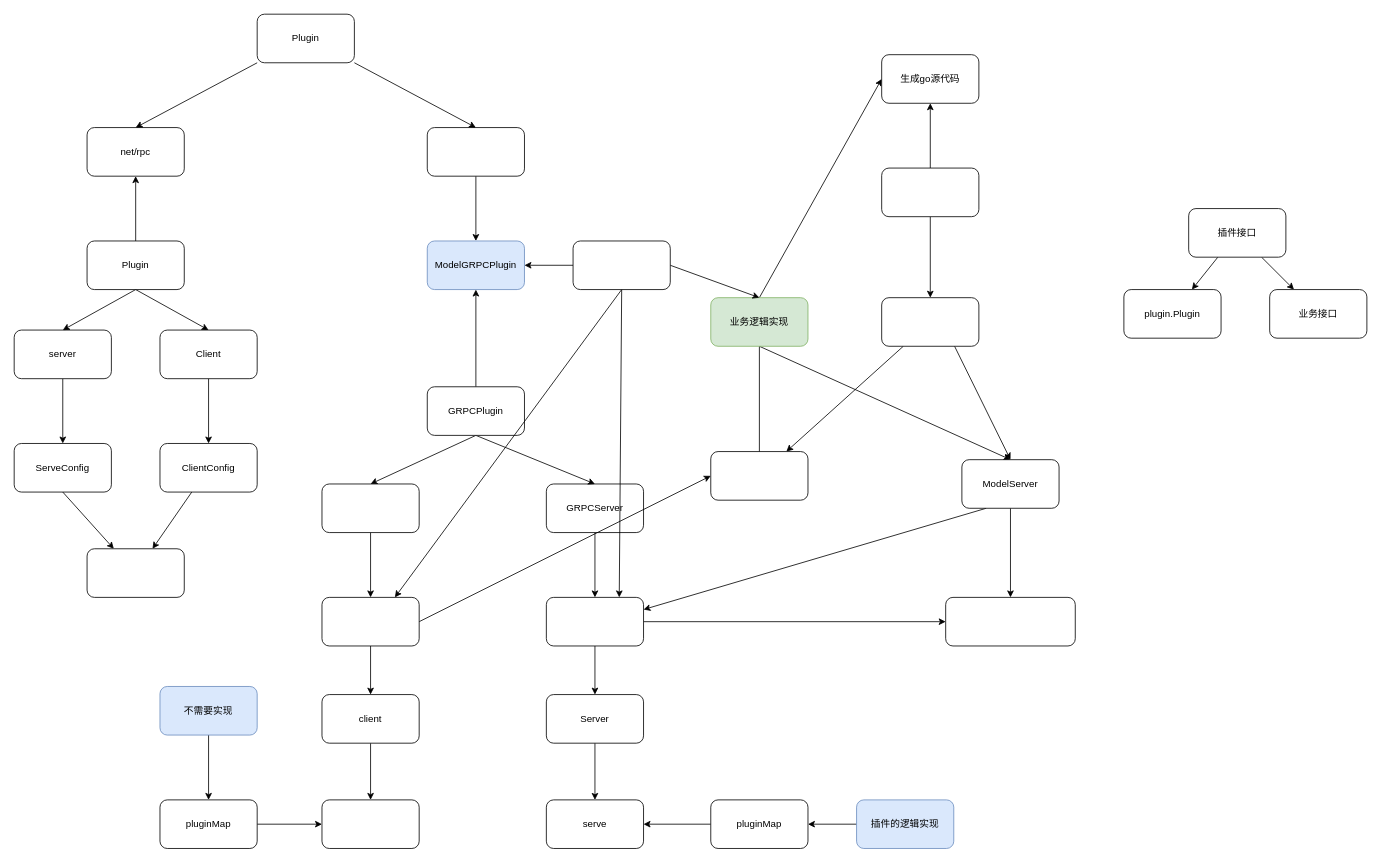
The diagram is 1381 pixels wide and 863 high, and some of its shapes have lost their labels. The shapes that lost their labels are listed below. From the top down, each one's centre as x and y in pixels, then its label:
pixel 475 151: gRPC
pixel 930 192: Proto定义
pixel 621 265: 业务接口定义 Model
pixel 930 321: 服务定义
pixel 759 475: ModelClient
pixel 370 508: GRPCClient
pixel 135 572: HandshakeConfig
pixel 370 621: ClientGRPC
pixel 595 621: ServerGRPC
pixel 1010 621: 注册服务 proto.RegisterModelServer
pixel 370 823: NewClient
